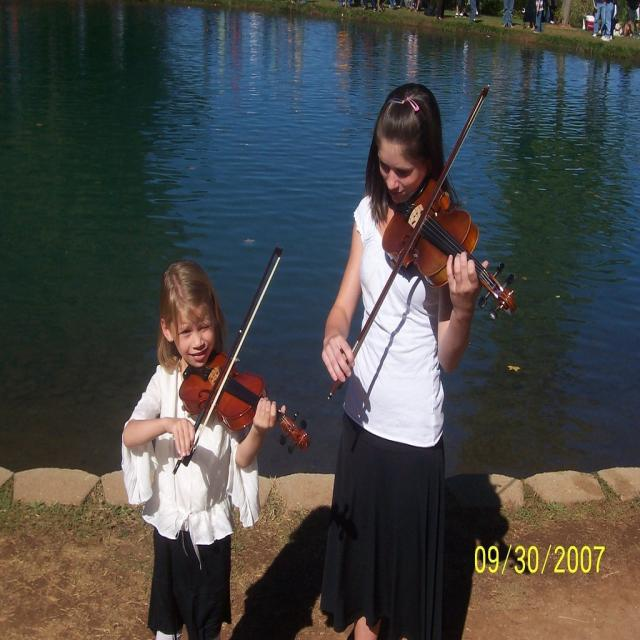violin: (379, 177, 522, 323), (176, 352, 315, 458)
